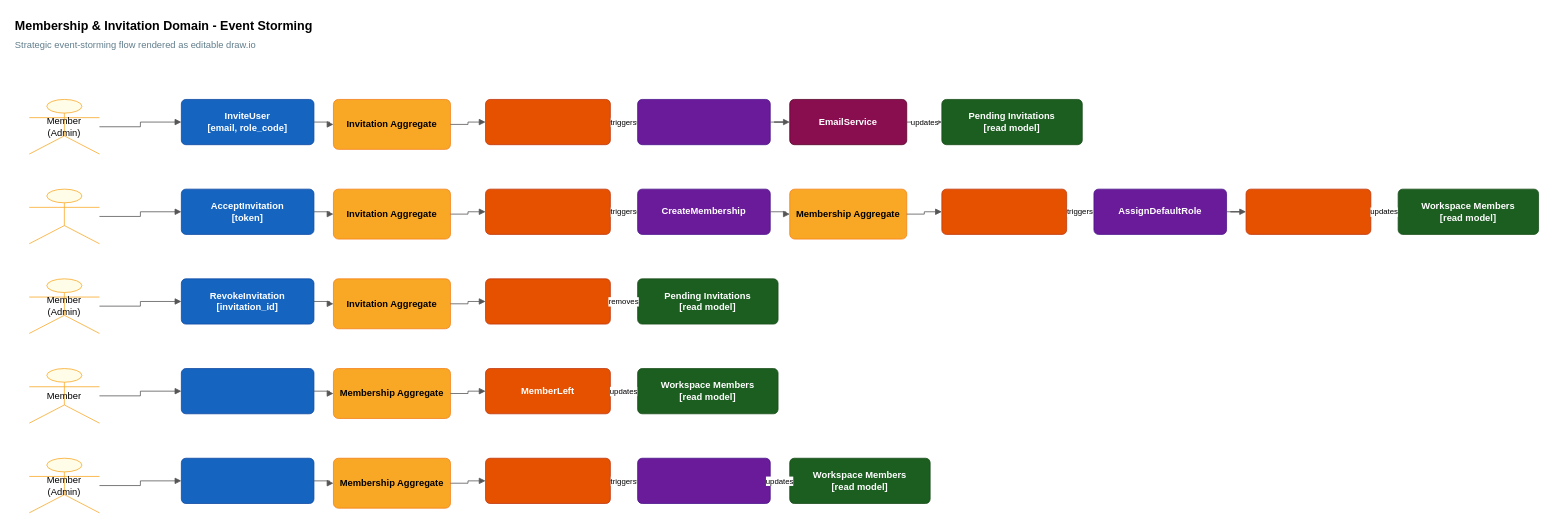
This 1552x527 diagram has some shape labels left out. Each missing label, with the centre of its shape:
InvitationAccepted: [547,211]
InvitationRevoked: [547,301]
Invitee: [63,216]
LeaveWorkspace: [247,391]
MemberInvited: [547,122]
MemberJoined: [1004,211]
MemberRemoved: [547,480]
RemoveMember [member_id]: [247,480]
RevokeChannelAccess: [703,480]
RoleAssigned: [1308,211]
SendInvitationEmail: [703,122]
